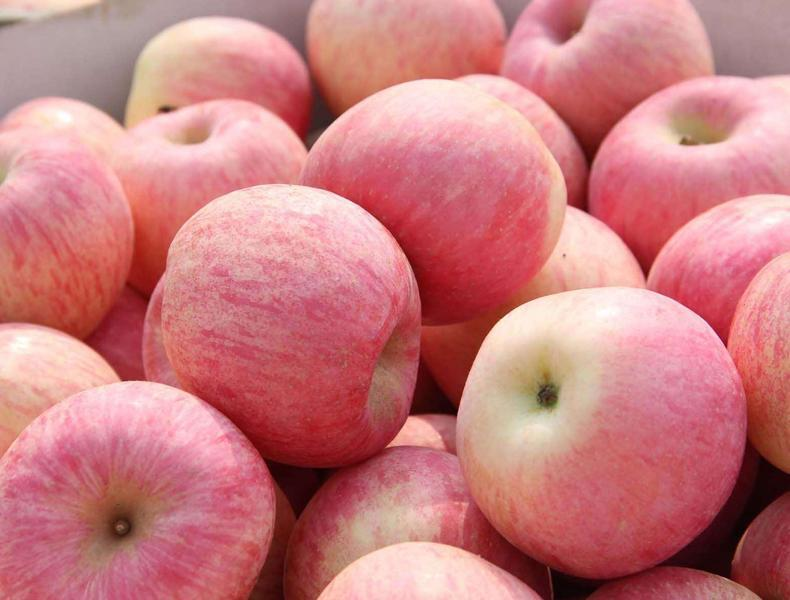apple: (456, 288, 748, 579), (156, 186, 430, 470), (297, 78, 567, 329), (1, 387, 290, 599), (102, 101, 300, 307), (586, 74, 789, 271), (284, 445, 547, 595), (494, 1, 715, 158), (1, 95, 134, 342), (120, 14, 314, 140), (309, 1, 507, 119), (644, 191, 790, 346), (1, 322, 121, 461), (729, 494, 789, 600)
